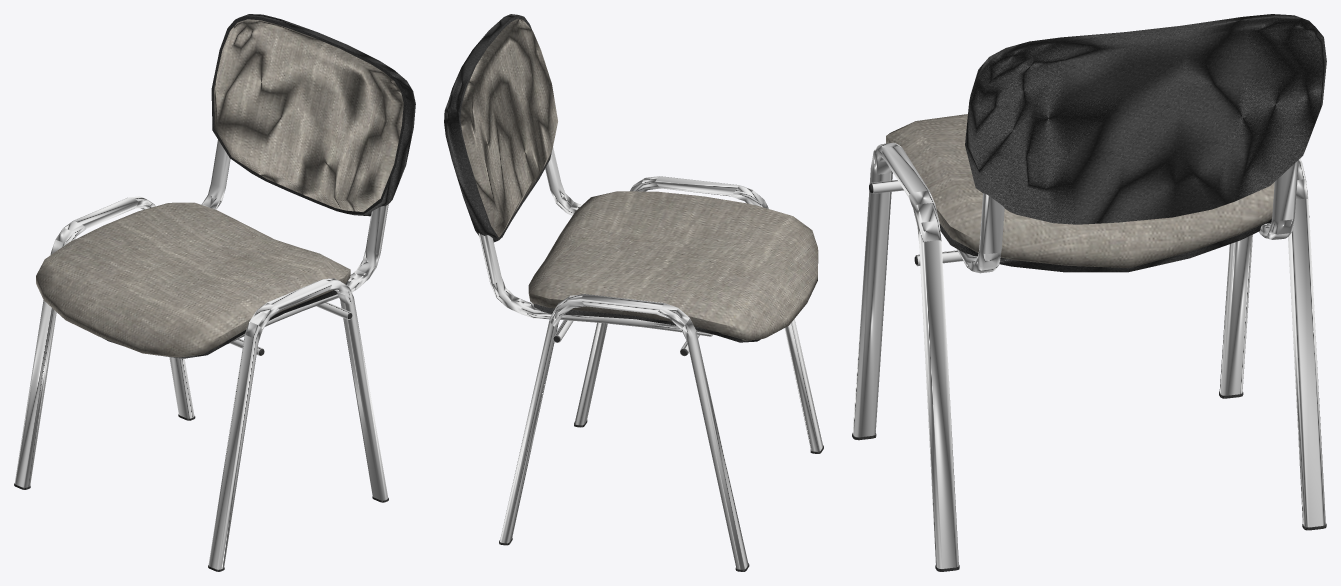
Rendered from office-chair--low-poly-f353bb.glb.
3 views of the same model, side by side, from view 1: azimuth 30°, elevation 25°; view 2: azimuth 150°, elevation 25°; view 3: azimuth 270°, elevation 25° (orthographic). The views are drawn at different scales.
Visible parts, largest first — view 1: PropMesh; view 2: PropMesh; view 3: PropMesh.
Boxes of the visible parts, x1,y1,x2,y2 form: PropMesh: (14, 14, 415, 571); PropMesh: (444, 14, 823, 571); PropMesh: (852, 14, 1326, 571).
Size of the model in its own units: 0.6956 by 0.85 by 0.6611.
Materials: 3 (2 with a texture image).
